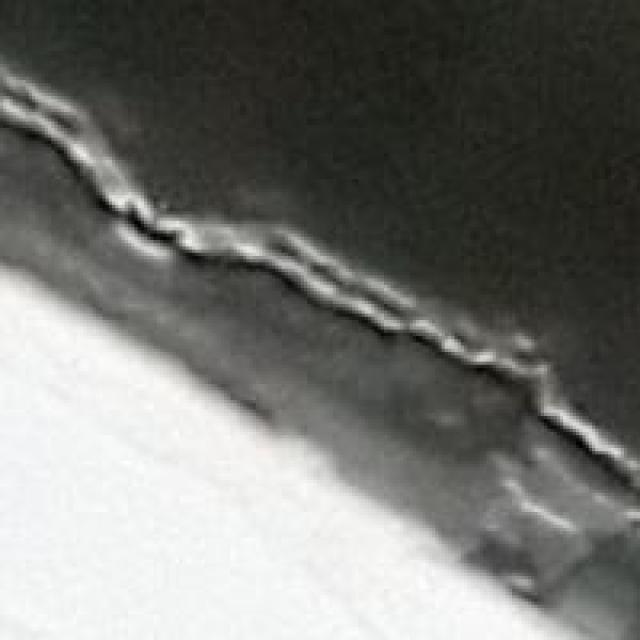crack: (3, 48, 637, 566)
